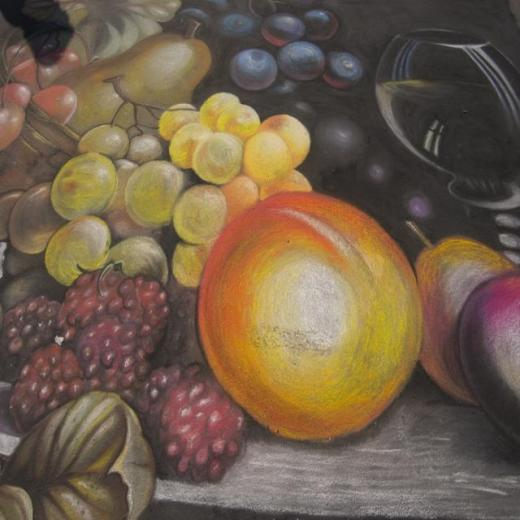Orange: (0, 0, 454, 480), (30, 87, 79, 124), (11, 57, 54, 88), (0, 107, 28, 144), (0, 79, 28, 110), (9, 41, 30, 60), (55, 55, 77, 71)
